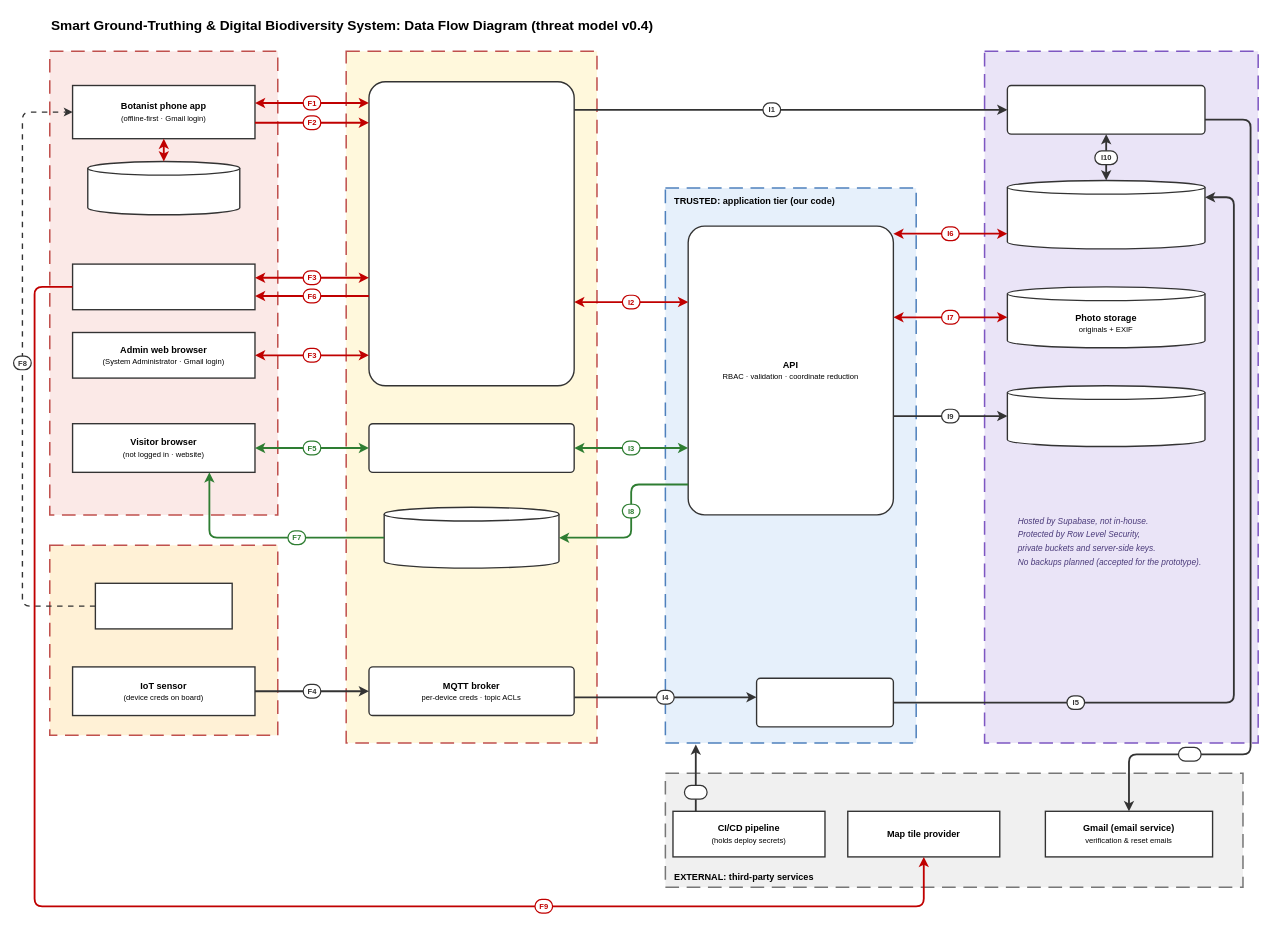
Image size: 1272x926. Some labels were removed from this diagram. The shapes that lost their labels are listed below. From the top down, each one's box as (x1, y1, x2, y2) in pixels, then its label:
(1006, 84, 1205, 134): Auth service Supabase Auth · login · tokens · reset
(87, 160, 240, 215): On-device store (encrypted)
(368, 81, 574, 386): Reverse proxy / gateway TLS · rate limit · size limit
(1006, 179, 1205, 249): Database records · users · exact GPS
(49, 50, 278, 515): UNTRUSTED: user devices on the internet
(72, 263, 255, 310): Officer web browser (Conservation Officer · Gmail login)
(345, 50, 597, 743): SEMI-TRUSTED: public-facing tier
(1006, 385, 1205, 447): Audit log append-only
(983, 50, 1259, 743): THIRD-PARTY: Supabase (hosted, not in-house)
(368, 423, 574, 473): Public plant page read-only
(383, 506, 559, 568): Public photo copies (EXIF stripped)
(94, 582, 232, 629): QR tag on plant
(49, 544, 278, 736): UNTRUSTED: field (physical, unattended)
(756, 677, 894, 727): Telemetry ingest validate · de-dup alerts
(1177, 746, 1201, 761): F11
(683, 784, 707, 799): F10
